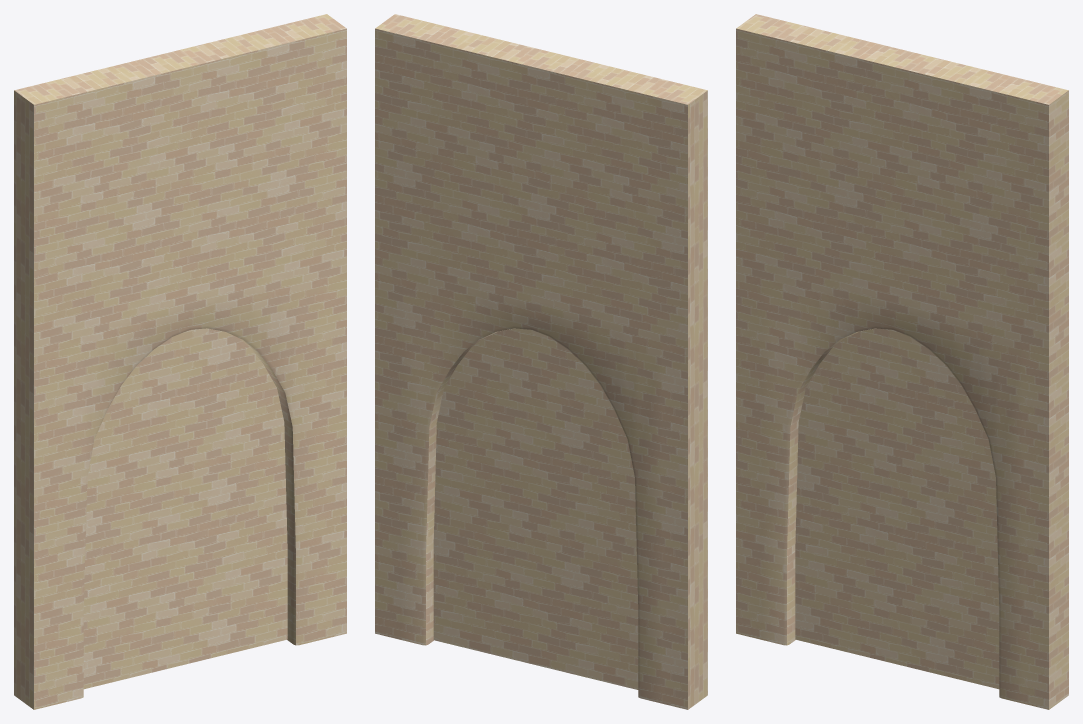
Rendered from SM_wall_arch_03.fbx.
3 views of the same model, side by side, from view 1: azimuth 30°, elevation 25°; view 2: azimuth 150°, elevation 25°; view 3: azimuth 330°, elevation 25° (orthographic).
Visible parts, largest first — view 1: Plane091; view 2: Plane091; view 3: Plane091.
Part boxes in pixels (x1,y1,x2,y2): Plane091: (14,14,346,709); Plane091: (375,14,707,709); Plane091: (736,14,1068,709).
Size of the model in its own units: 167 by 309 by 18.41.
